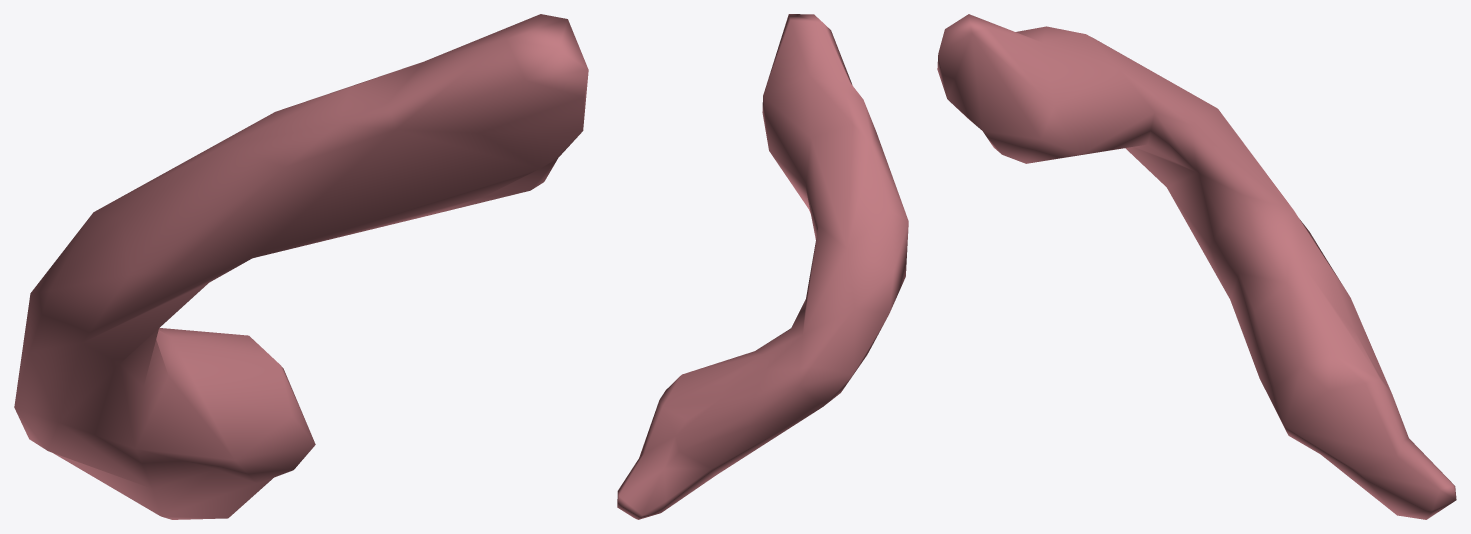
3 renders of one model, left to right at view 1: azimuth 30°, elevation 25°; view 2: azimuth 150°, elevation 25°; view 3: azimuth 270°, elevation 25°, orthographic. The views are drawn at different scales.
Visible parts, largest first — view 1: 右侧肛门外括约肌; view 2: 右侧肛门外括约肌; view 3: 右侧肛门外括约肌.
Part boxes in pixels (x1,y1,x2,y2): 右侧肛门外括约肌: (14, 14, 588, 519); 右侧肛门外括约肌: (617, 14, 908, 519); 右侧肛门外括约肌: (937, 14, 1456, 519).
Size of the model in its own units: 0.0177 by 0.0336 by 0.0318.
